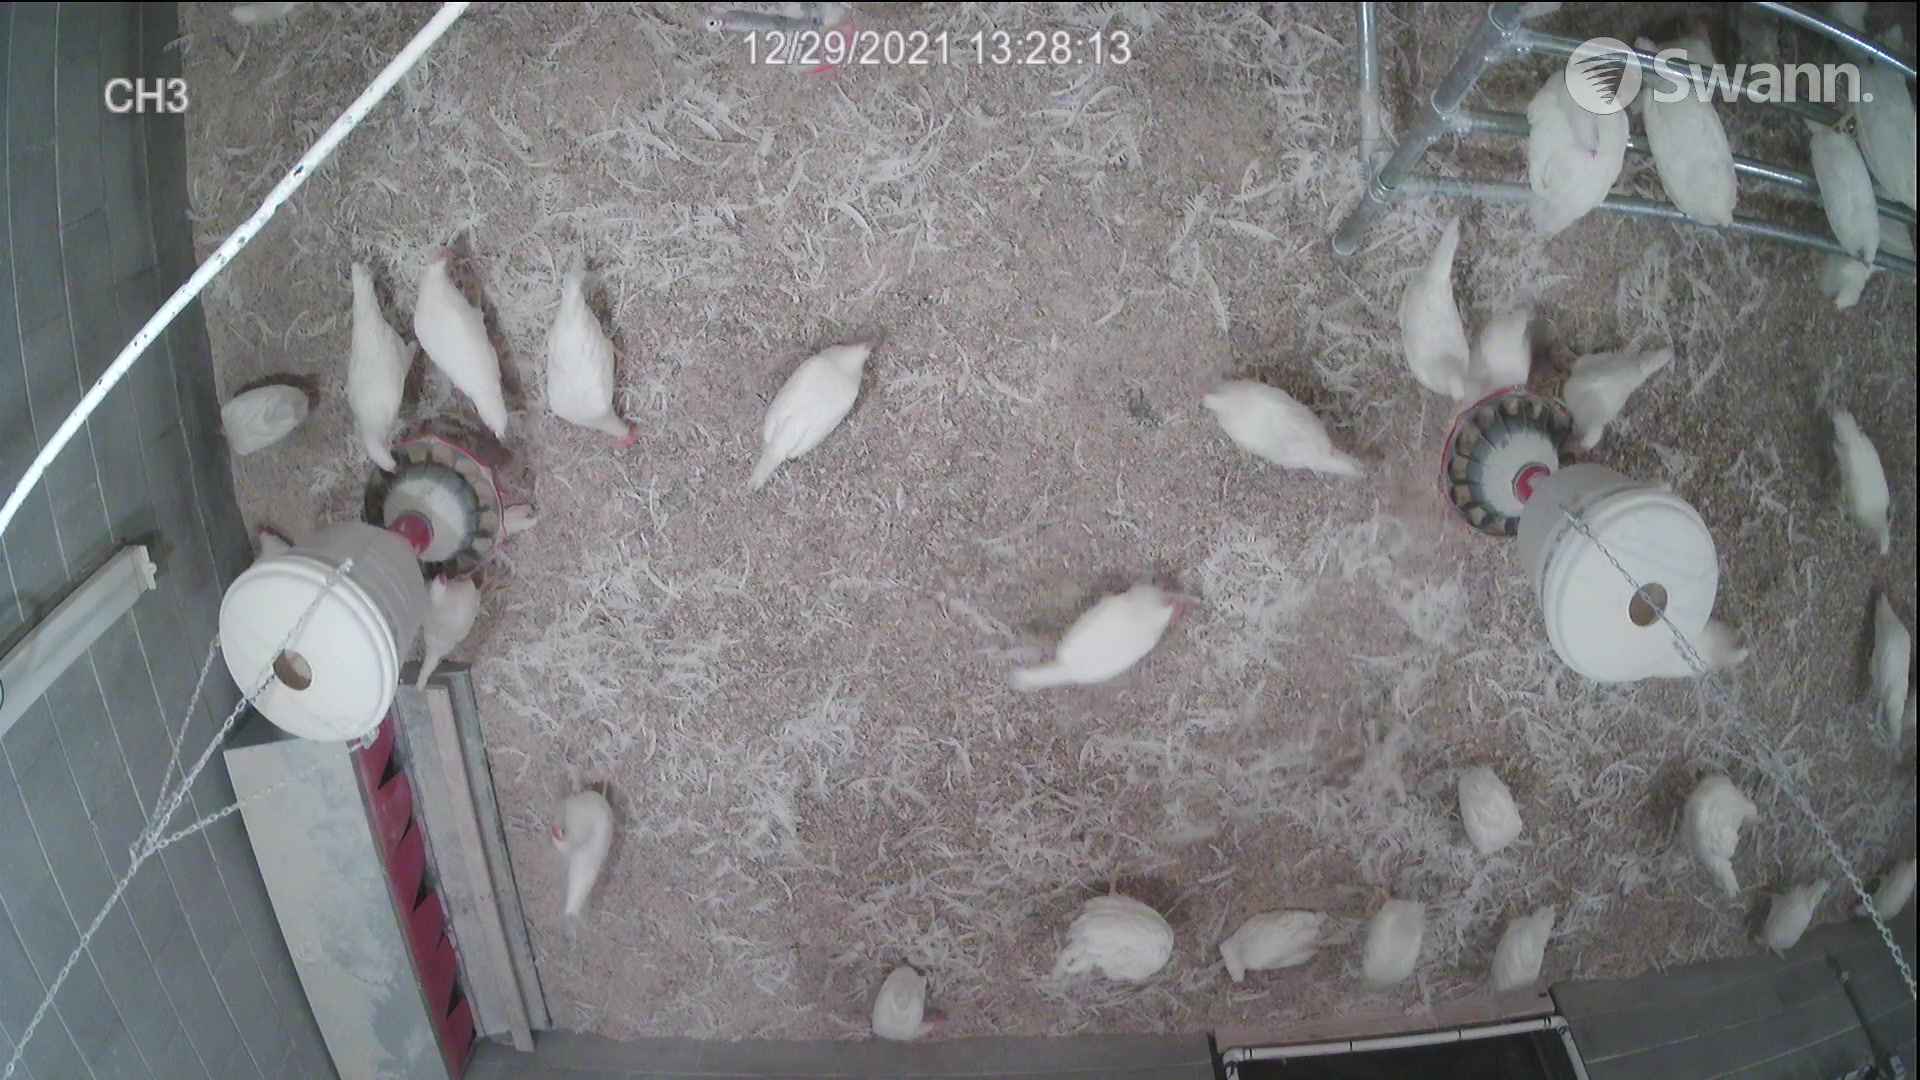Feeding: (323, 251, 410, 477), (1557, 310, 1688, 458), (1407, 215, 1476, 415)
Foraging: (531, 273, 659, 458), (746, 331, 895, 483), (1185, 375, 1379, 491), (1455, 742, 1523, 877)
Perching: (1519, 54, 1634, 244), (1647, 33, 1726, 232), (1797, 102, 1883, 266), (1845, 51, 1920, 232)
